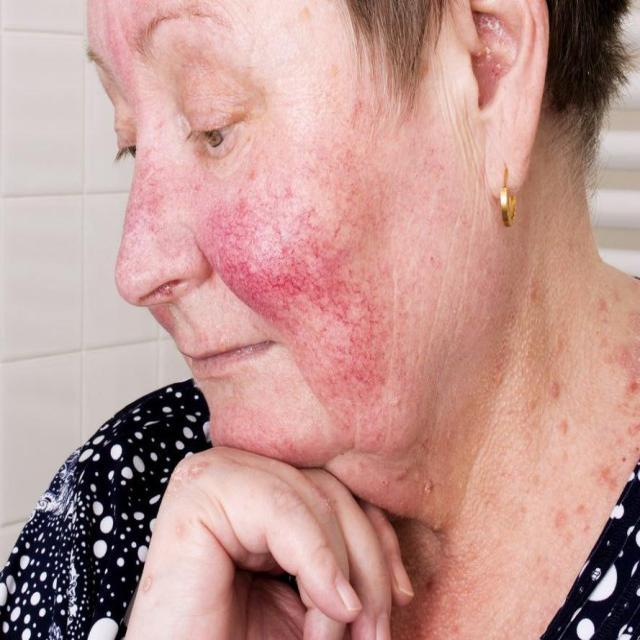Rosacea: (218, 223, 380, 400)
